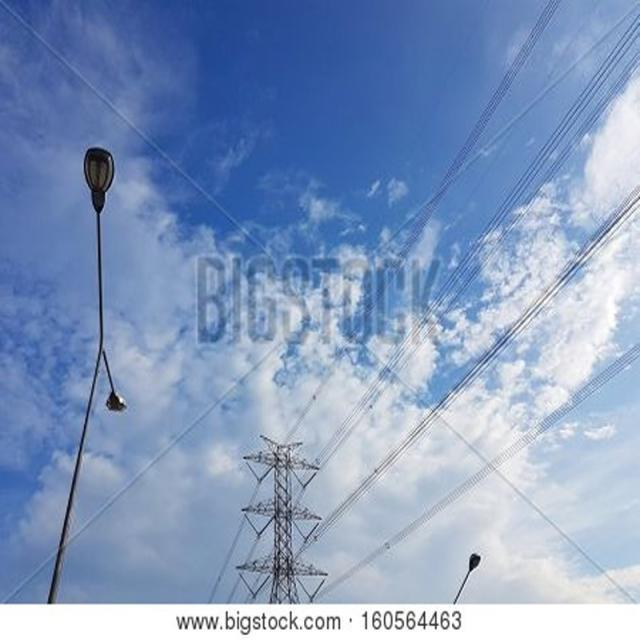non-critical vegetation: (235, 424, 322, 603)
